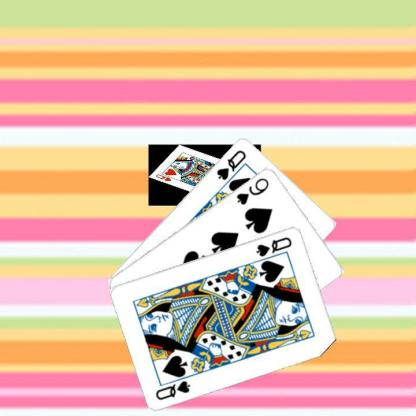9S: (233, 174, 270, 206)
QS: (214, 147, 247, 181), (254, 234, 293, 258), (153, 378, 192, 401)
